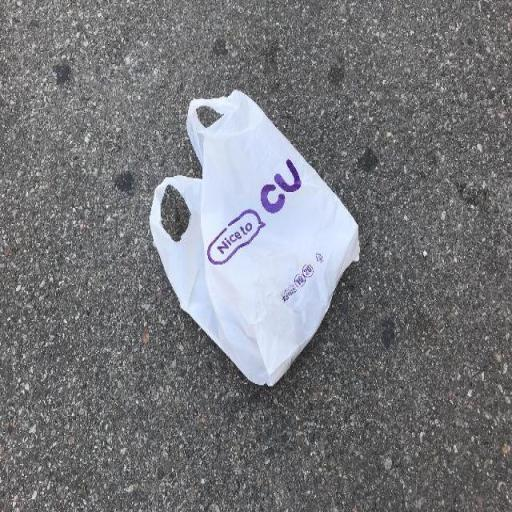plastic-bag: (147, 88, 363, 386)
